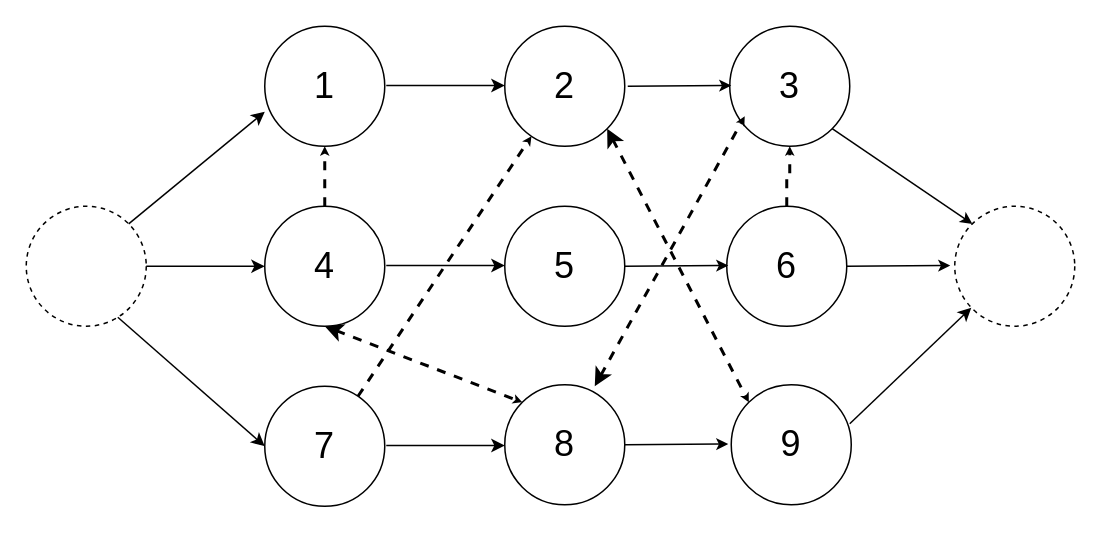
Some shapes in this 1101 by 533 pixel diagram are drawn without their labels. Here are the shapes that lost their labels. From the top down, the centre of each, then its label:
At point 85,265: "start".
At point 1014,265: "end".
